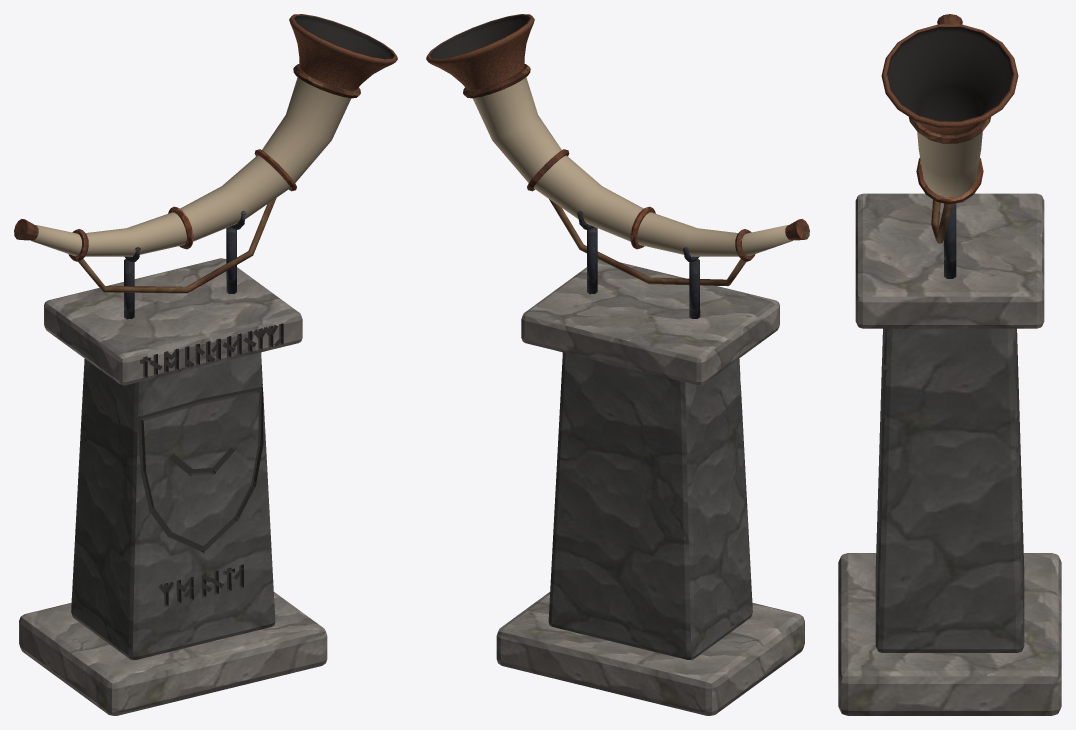
Rendered from hs_war_horn_stand.glb.
The picture shows the model from 3 angles, left to right: view 1: azimuth 30°, elevation 25°; view 2: azimuth 150°, elevation 25°; view 3: azimuth 270°, elevation 25°; orthographic projection. The views are drawn at different scales.
Visible parts, largest first — view 1: model; view 2: model; view 3: model.
Part boxes in pixels (x1,y1,x2,y2): model: [14, 14, 397, 715]; model: [426, 14, 809, 715]; model: [838, 14, 1061, 715].
Bounding box in the file's own units: 1.02 × 1.57 × 0.45.
Materials: 9 (6 with a texture image).
